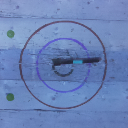Axe Tip: (52, 59, 61, 61)
